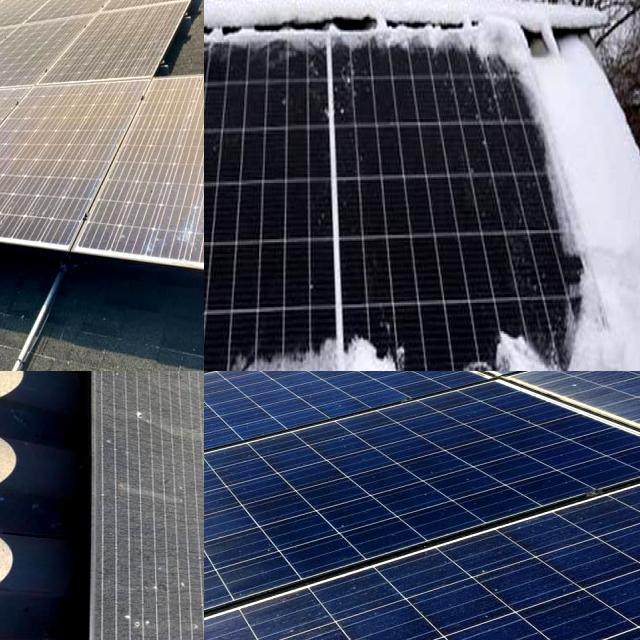dust: (15, 86, 136, 242), (93, 371, 188, 505), (92, 497, 178, 640), (153, 73, 204, 279), (0, 96, 63, 203), (0, 87, 42, 217), (96, 0, 200, 42), (92, 4, 153, 72), (12, 38, 87, 86), (0, 46, 75, 85), (0, 115, 29, 199), (17, 0, 85, 35), (0, 0, 34, 33), (0, 6, 25, 44), (0, 64, 16, 95)
panel: (438, 15, 539, 104), (556, 219, 617, 366), (204, 86, 231, 371), (217, 10, 324, 60), (332, 13, 430, 64), (449, 325, 541, 371), (204, 336, 304, 371), (310, 333, 400, 371), (204, 22, 240, 51)
